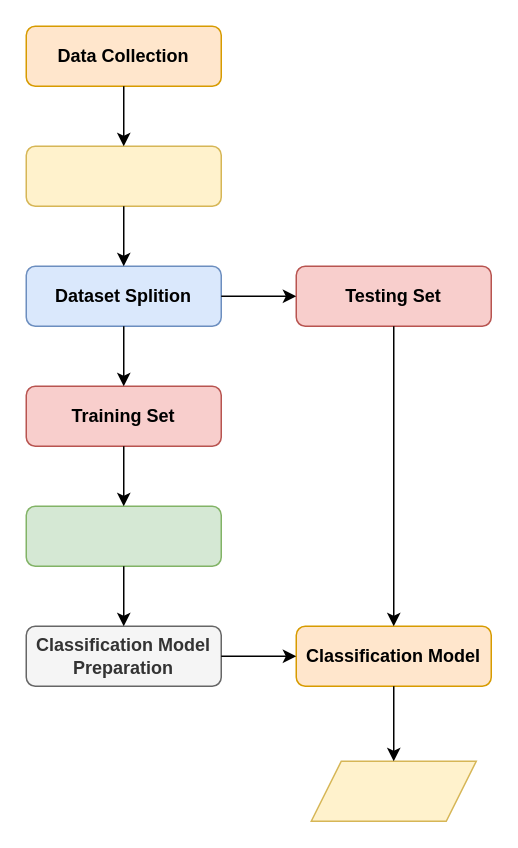
Some shapes in this 518 by 848 pixel diagram are drawn without their labels. The box of each missing label's shape, as (x1, y1, x2, y2) in pixels:
Data Pre-Processing: (25, 145, 221, 206)
Feature Selection: (25, 505, 221, 566)
Result: (310, 760, 476, 821)
